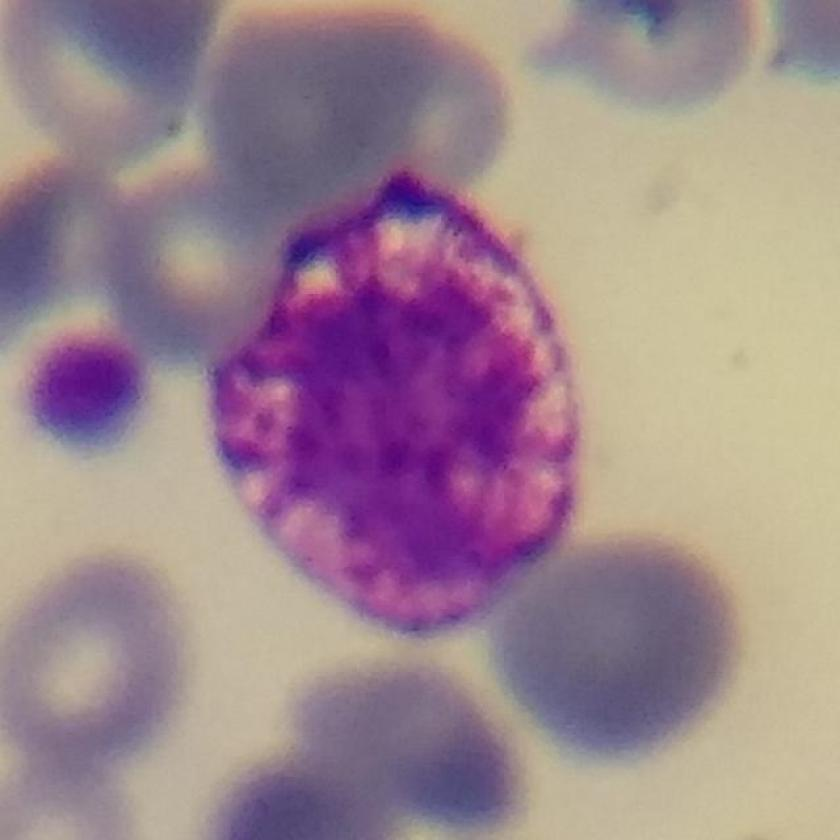basophil: (194, 161, 598, 646)
